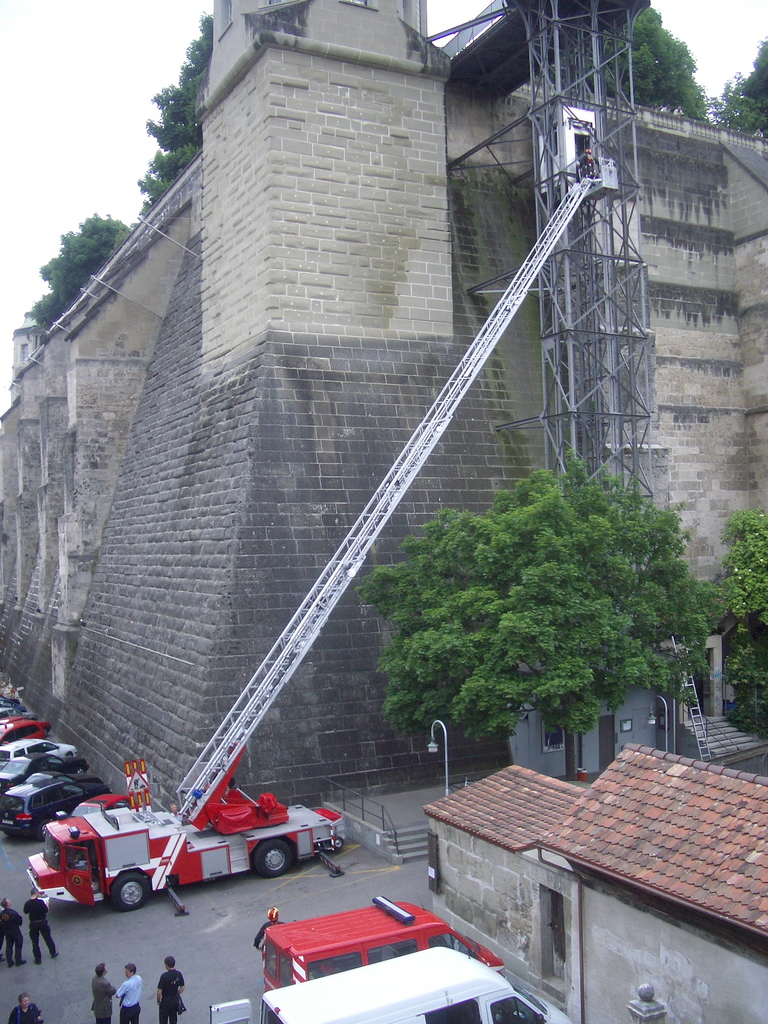cars: (0, 774, 114, 841), (0, 749, 85, 795), (0, 734, 77, 774), (0, 717, 55, 743)
